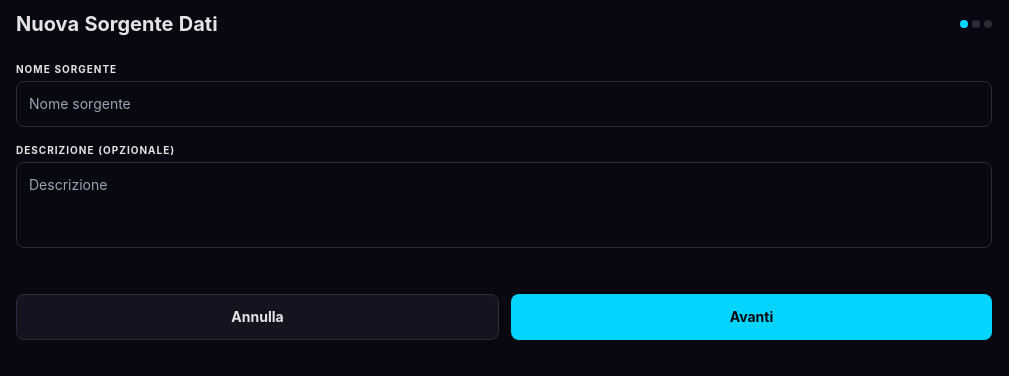
Test: DataSourceFormSlideOver › shows error when submitting without name
Click the button "Avanti".
click(752, 317)  # box x1=511 y1=294 x2=992 y2=340
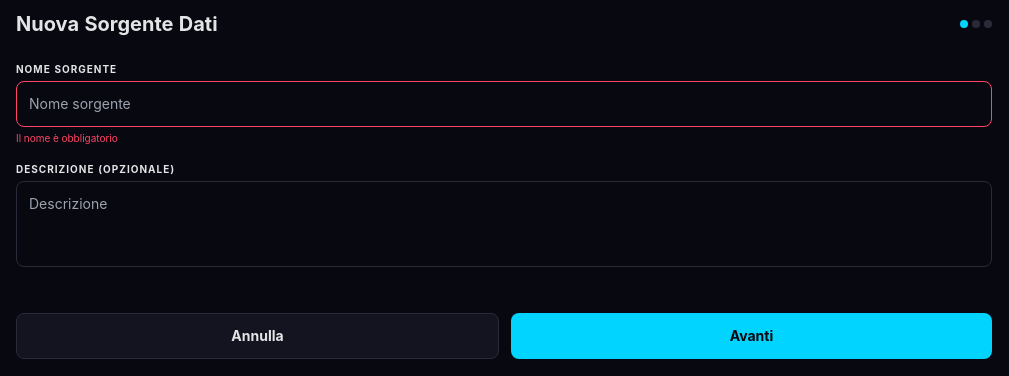
Expected: the text "Il nome è obbligatorio" is shown, x1=16 y1=132 x2=118 y2=144
